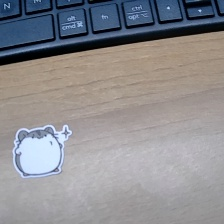mouse: (10, 123, 75, 180)
